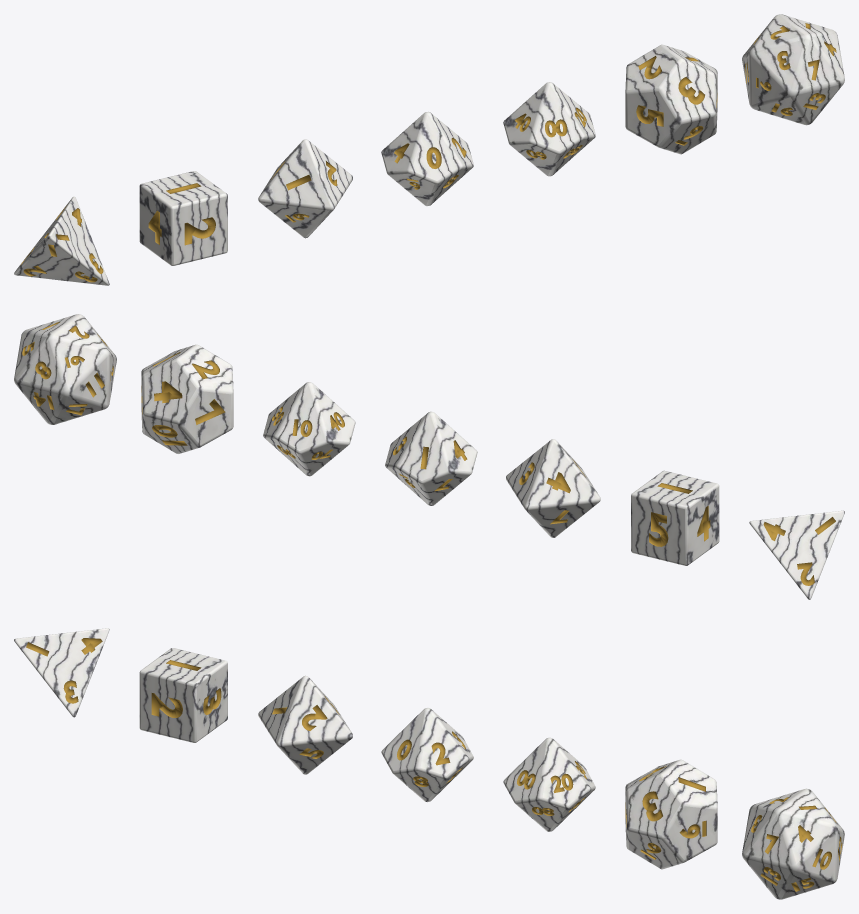
The model's file is carrara-marble.glb.
3 views of the same model, one above another, from view 1: azimuth 30°, elevation 25°; view 2: azimuth 150°, elevation 25°; view 3: azimuth 330°, elevation 25° (orthographic).
Parts seen in each view (by area): view 1: d20, d12, d6, d100, d10, d8, d4; view 2: d20, d12, d6, d100, d10, d8, d4; view 3: d20, d12, d6, d8, d10, d100, d4.
Part boxes in pixels (x1,y1,x2,y2): d20: (742, 14, 844, 125); d12: (625, 44, 717, 154); d6: (139, 171, 227, 265); d100: (503, 82, 595, 176); d10: (381, 111, 473, 205); d8: (258, 139, 352, 238); d4: (14, 196, 109, 285); d20: (14, 314, 116, 424); d12: (141, 344, 233, 453); d6: (631, 470, 719, 565); d100: (263, 382, 355, 476); d10: (385, 411, 477, 505); d8: (506, 439, 600, 537); d4: (749, 510, 844, 599); d20: (742, 788, 844, 899); d12: (625, 759, 717, 869); d6: (139, 648, 227, 742); d8: (258, 675, 352, 774); d10: (381, 708, 473, 802); d100: (503, 737, 595, 831); d4: (14, 628, 109, 717).
Bounding box in the file's own units: 21.14 × 2.46 × 2.46.
Materials: 14 (7 with a texture image).
